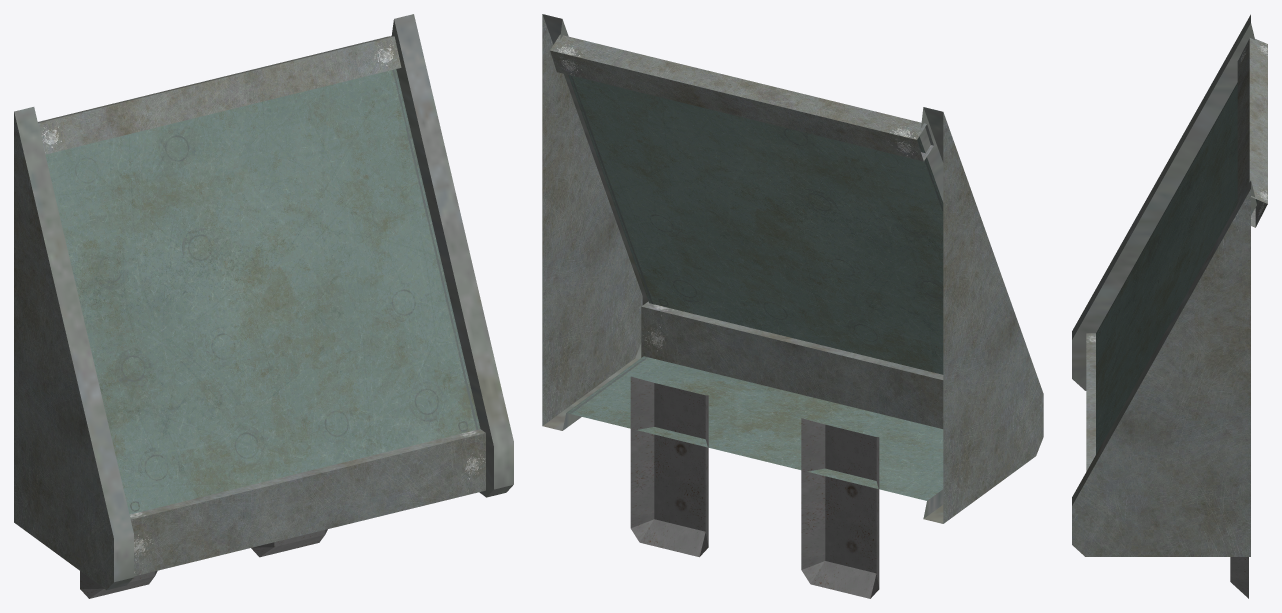
Rendered from Ob_PillarPartExtrude_RC.fbx.
3 views of the same model, side by side, from view 1: azimuth 30°, elevation 25°; view 2: azimuth 150°, elevation 25°; view 3: azimuth 270°, elevation 25° (orthographic). The views are drawn at different scales.
Parts seen in each view (by area): view 1: Ob_PillarPartExtrude_RC; view 2: Ob_PillarPartExtrude_RC; view 3: Ob_PillarPartExtrude_RC.
Part boxes in pixels (left/top/right/bottom): Ob_PillarPartExtrude_RC: left=14, top=14, right=513, bottom=598; Ob_PillarPartExtrude_RC: left=542, top=14, right=1043, bottom=598; Ob_PillarPartExtrude_RC: left=1072, top=14, right=1267, bottom=598.
Bounding box in the file's own units: 1000 × 1206 × 473.
